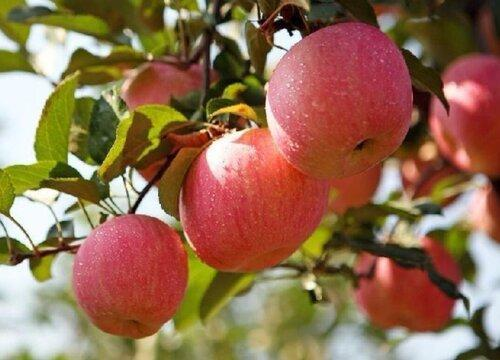apple: (267, 18, 415, 180), (181, 129, 327, 275), (71, 214, 187, 336), (352, 238, 462, 330), (431, 51, 500, 175)
